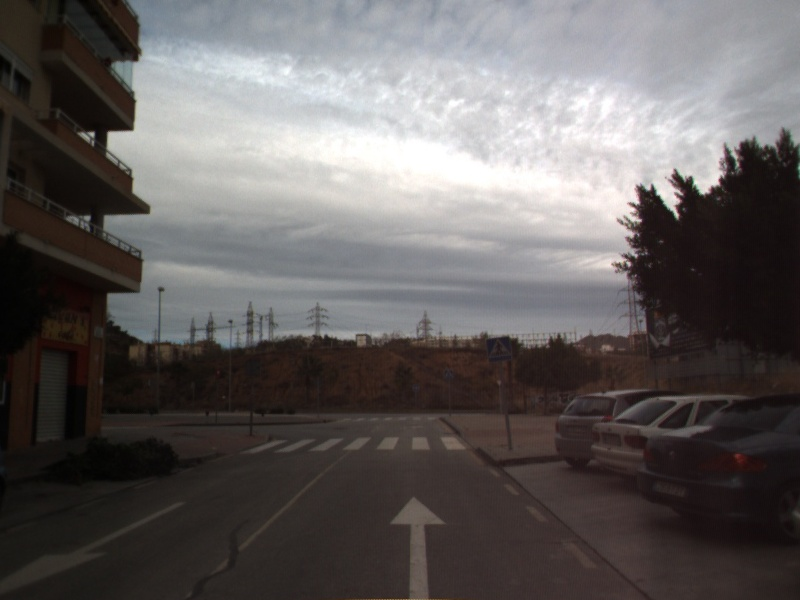STRAIGHT: (387, 494, 449, 600)
